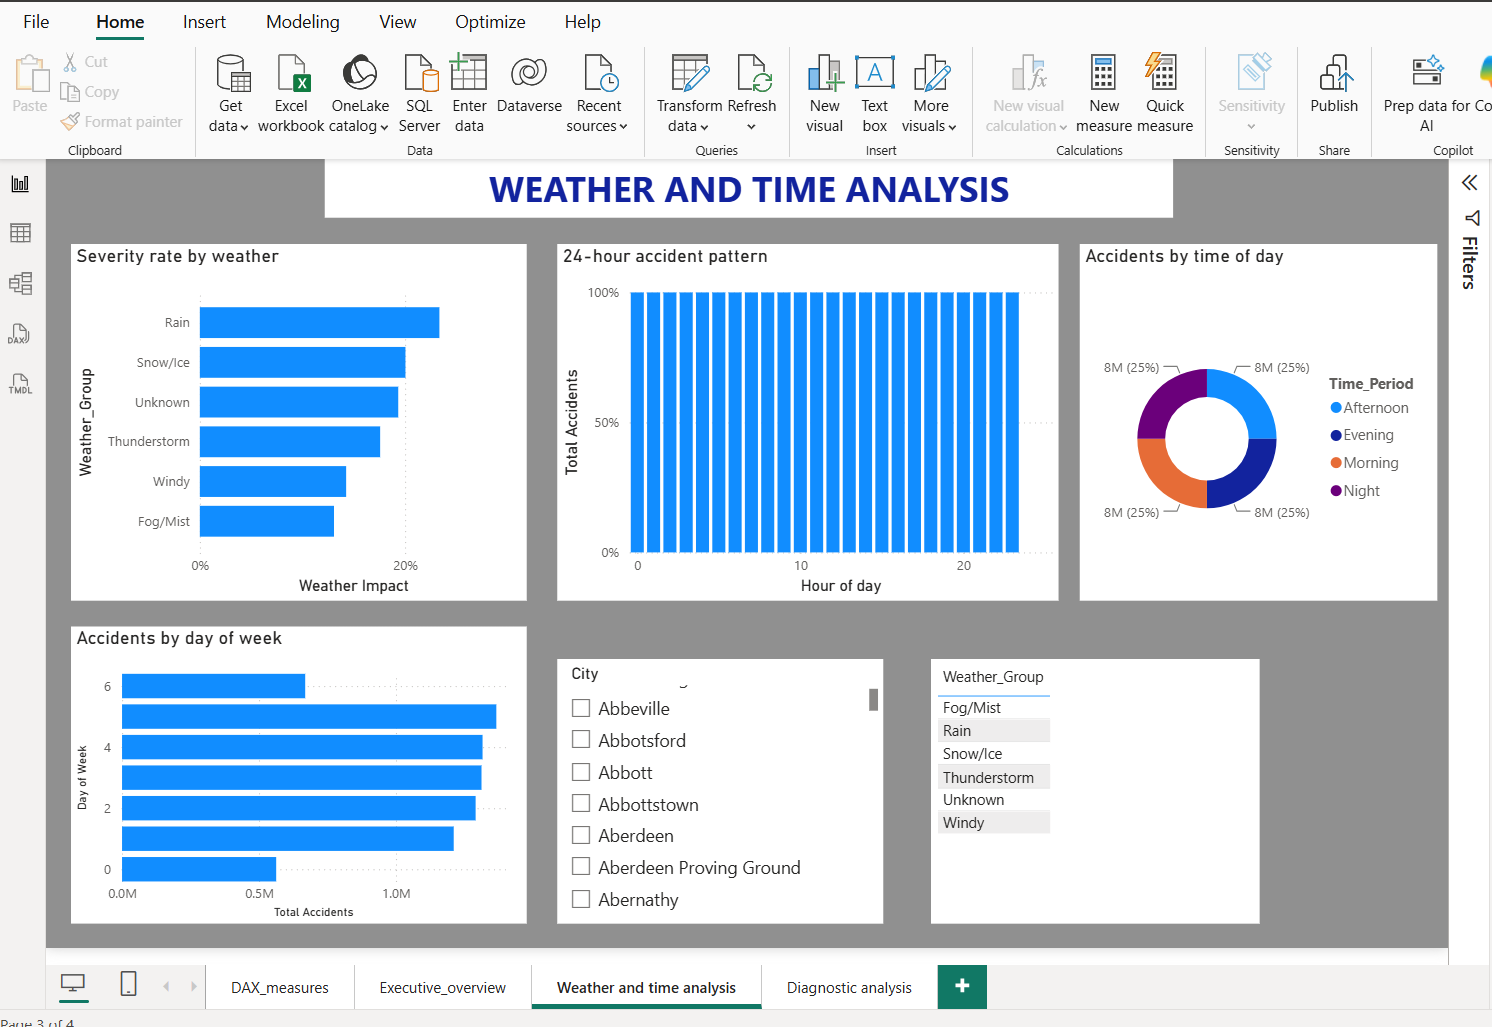

The page's visual inventory and layout, read from the dashboard file:
{"tool":"powerbi","page":{"name":"Weather and time analysis","canvas":[1280,720],"ordinal":2},"visuals":[{"type":"textbox","box":[254.4,0,774.8,53.6],"z":0},{"type":"clusteredBarChart","title":"Severity rate by weather","fields":{"Category":["US_Accidents_March23.Weather_Group"],"Y":["US_Accidents_March23.Weather Impact"]},"box":[22.3,77.4,415.8,325.3],"z":1},{"type":"hundredPercentStackedColumnChart","title":"24-hour accident pattern","fields":{"Category":["US_Accidents_March23.Hour"],"Y":["US_Accidents_March23.Total Accidents"]},"box":[467,77.4,457.8,325.3],"z":2},{"type":"donutChart","title":"Accidents by time of day","fields":{"Category":["DimTimeOfDay.Time_Period"],"Y":["US_Accidents_March23.Time Accidents"]},"box":[943.1,77.4,326.6,325.3],"z":3},{"type":"clusteredBarChart","title":"Accidents by day of week","fields":{"Category":["US_Accidents_March23.Day of Week"],"Y":["US_Accidents_March23.Total Accidents"]},"box":[22.3,426.3,415.8,271.5],"z":4},{"type":"slicer","fields":{"Values":["US_Accidents_March23.City"]},"box":[467,456.5,297.8,241.4],"z":5},{"type":"tableEx","fields":{"Values":["DimWeather.Weather_Group"]},"box":[808,456.5,300.4,241.4],"z":6}]}

Visuals, with their boxes on the page's 1280x720 design canvas (x1, y1, x2, y2). These are canvas units, not pixel positions in the 1492x1027 screenshot, which may show the page scaled, cropped or inside an application window:
textbox: 254,0,1029,54
"Severity rate by weather" clusteredBarChart: 22,77,438,403
"24-hour accident pattern" hundredPercentStackedColumnChart: 467,77,925,403
"Accidents by time of day" donutChart: 943,77,1270,403
"Accidents by day of week" clusteredBarChart: 22,426,438,698
slicer - US_Accidents_March23.City: 467,456,765,698
tableEx - DimWeather.Weather_Group: 808,456,1108,698
